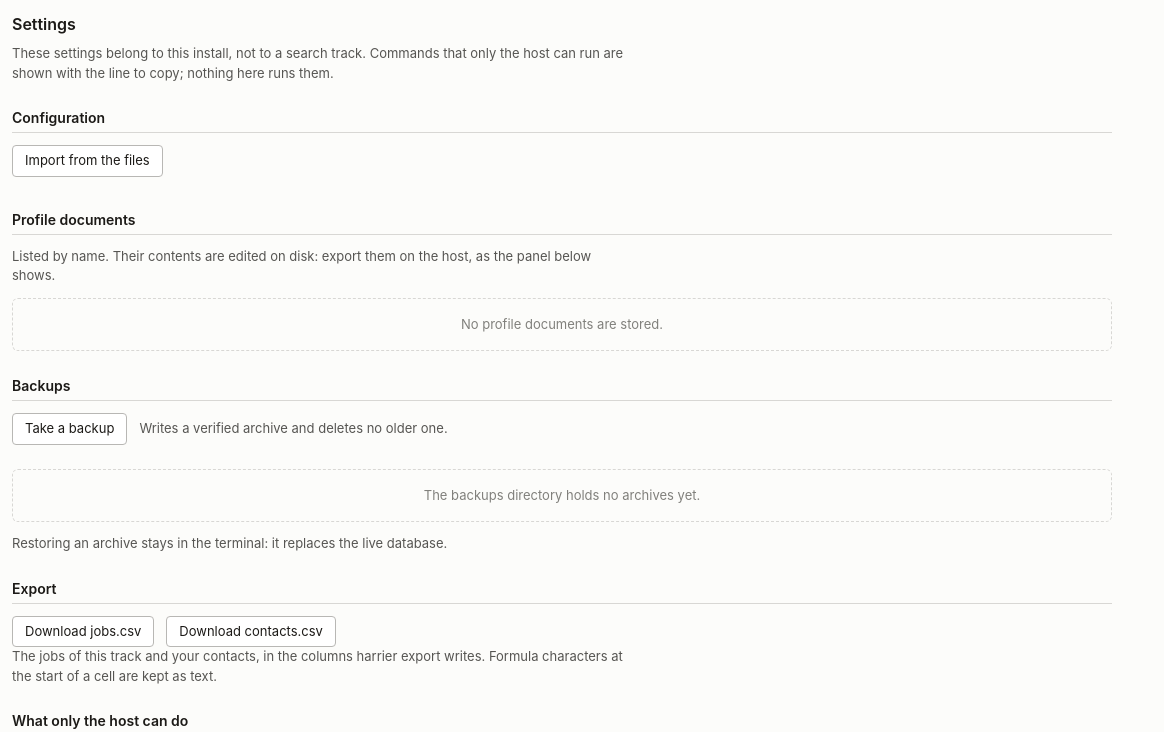
it: a refused backup is shown in the server's words, not as a token refusal
The width and height of the screenshot is (1164, 732).
Click the button "Take a backup": [70, 429] box [12, 413, 127, 444]
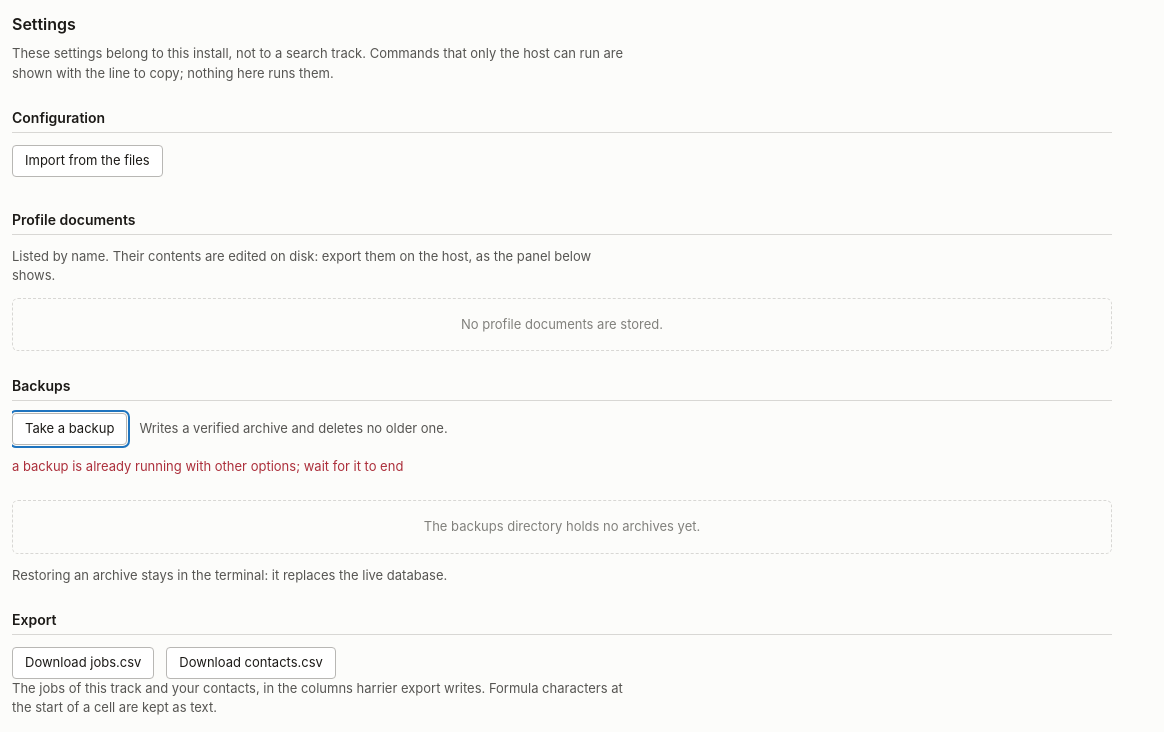
Now the message reads "a backup is already running with other options; wait for it to end", box [12, 458, 403, 474]
